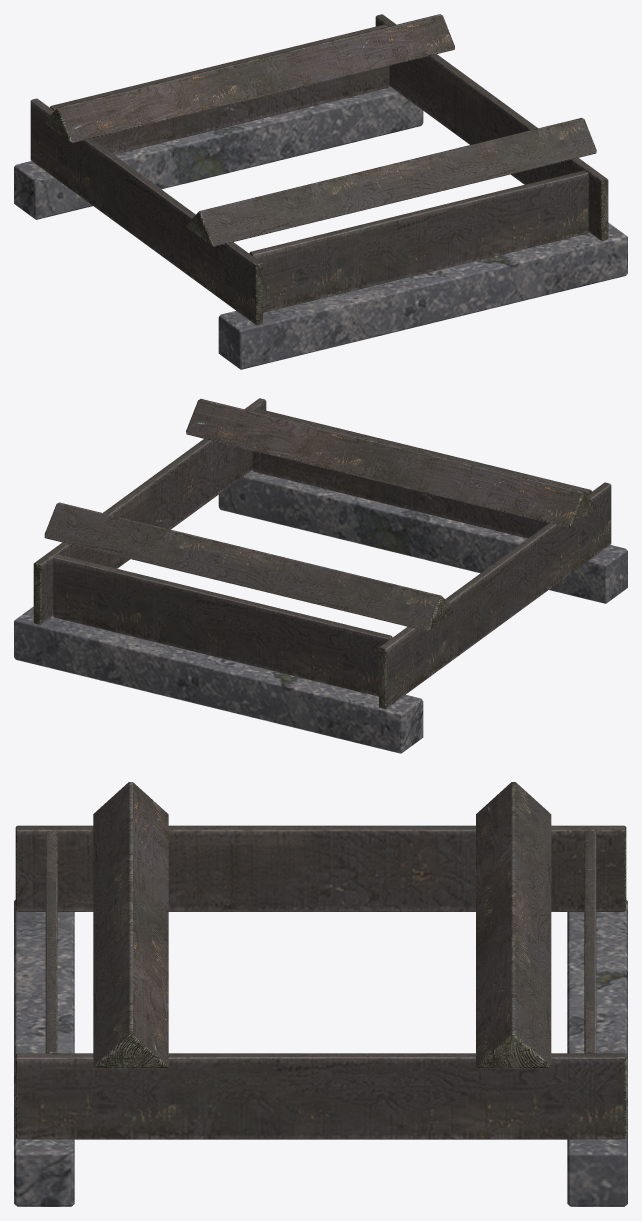
The model's file is SM_WineCaskPalletA.FBX.
3 views of the same model, one above another, from view 1: azimuth 30°, elevation 25°; view 2: azimuth 150°, elevation 25°; view 3: azimuth 270°, elevation 25° (orthographic). The views are drawn at different scales.
Visible parts, largest first — view 1: SM_WineCaskPalletA; view 2: SM_WineCaskPalletA; view 3: SM_WineCaskPalletA.
Part boxes in pixels (<box>): SM_WineCaskPalletA: <box>14,14,627,369</box>; SM_WineCaskPalletA: <box>14,398,627,753</box>; SM_WineCaskPalletA: <box>14,782,627,1206</box>.
Bounding box in the file's own units: 200 × 62.43 × 202.
